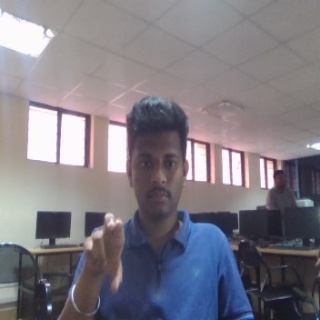Face: (125, 94, 190, 222)
No: (83, 211, 126, 296)
